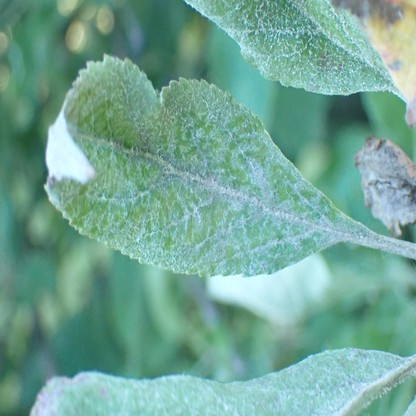powder: (44, 51, 350, 276), (25, 347, 407, 416), (186, 1, 401, 96)
